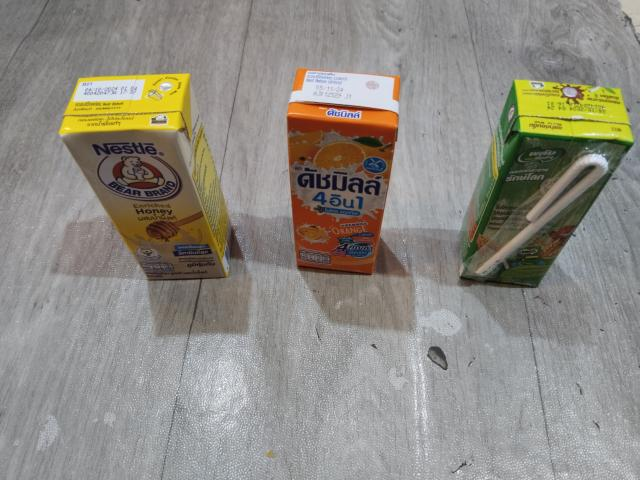drink_box: (47, 68, 239, 285), (451, 77, 635, 293), (280, 64, 409, 280)
